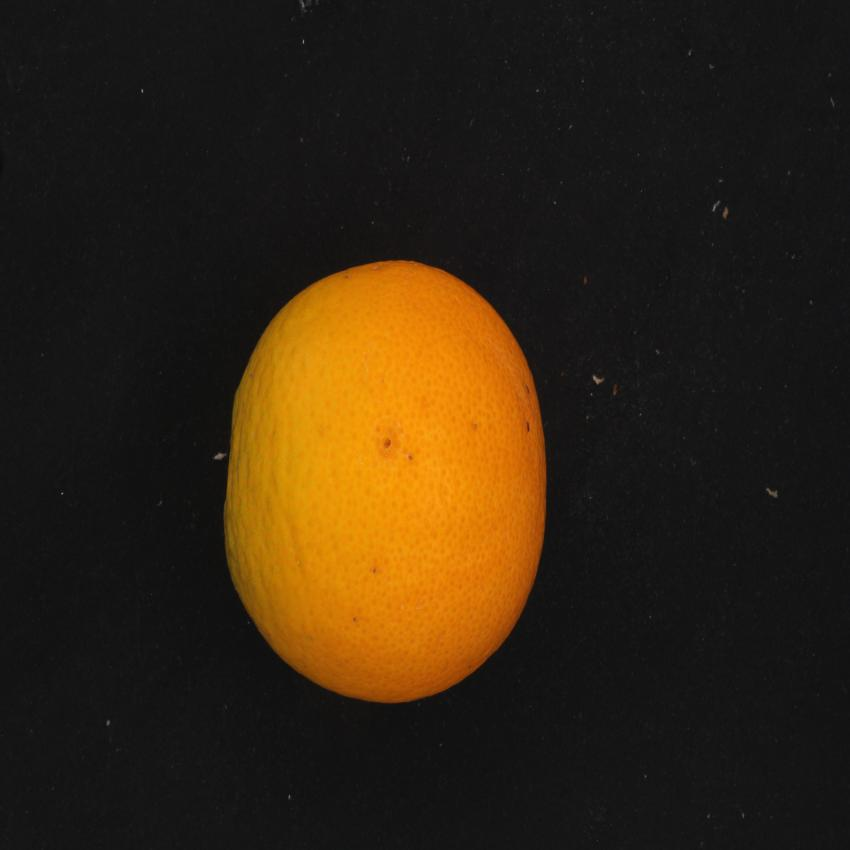Buen estado: (214, 238, 553, 714)
